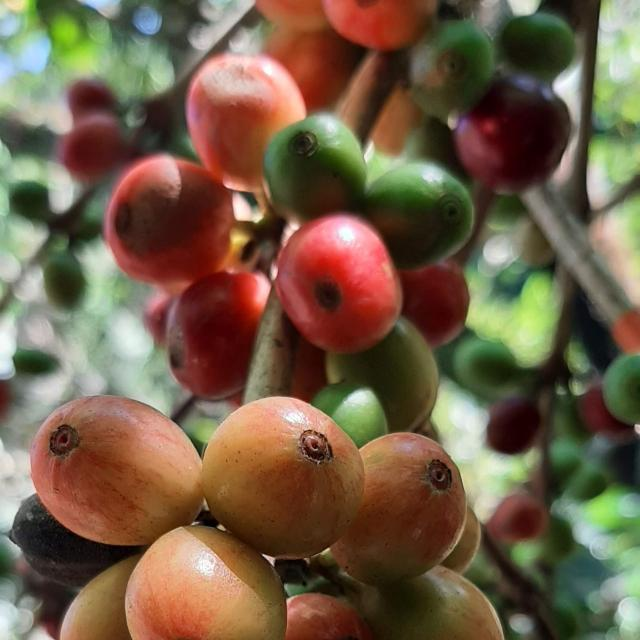green: (326, 316, 439, 433), (365, 161, 474, 269), (263, 113, 366, 221), (411, 20, 496, 120), (500, 11, 576, 81), (311, 383, 388, 449)
red: (275, 213, 403, 354), (455, 74, 572, 193), (166, 271, 270, 399), (8, 495, 142, 588), (399, 259, 470, 349)
yellow: (201, 397, 365, 560), (29, 396, 203, 547), (331, 433, 467, 586), (124, 526, 287, 640), (103, 154, 234, 295), (186, 53, 306, 191), (361, 567, 505, 640), (264, 27, 364, 110), (59, 555, 141, 640), (323, 0, 436, 50), (285, 594, 373, 640), (441, 507, 482, 575), (256, 0, 329, 30)
